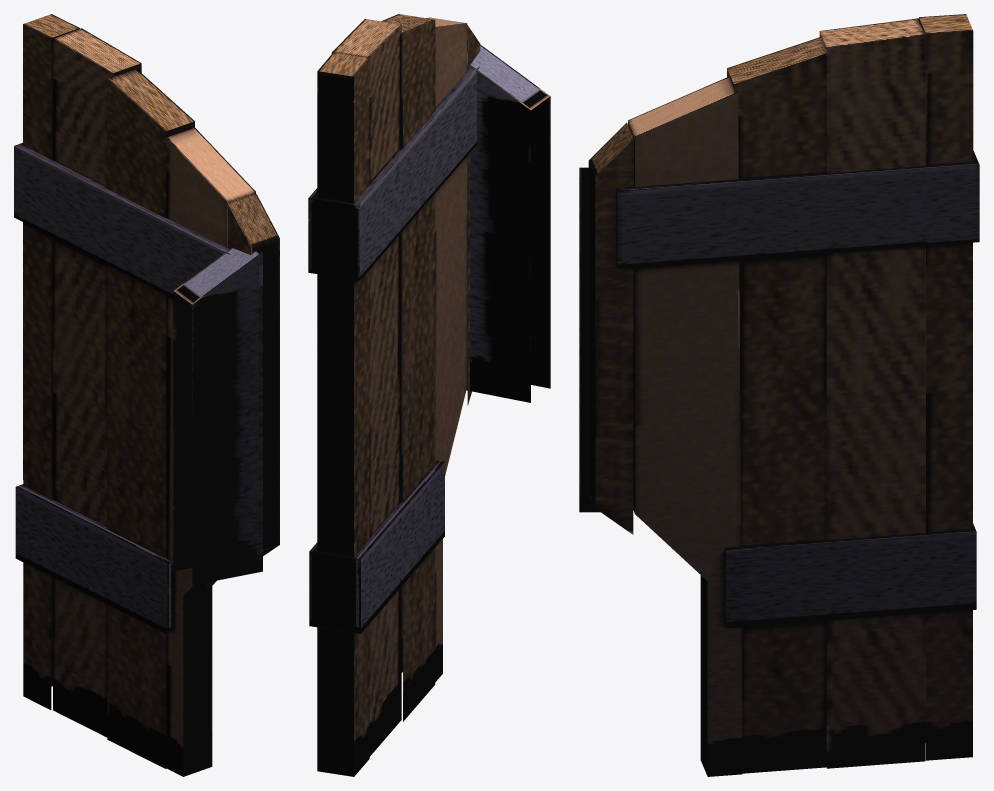
Rendered from DoorSide2F10.obj.
3 views of the same model, side by side, from view 1: azimuth 30°, elevation 25°; view 2: azimuth 150°, elevation 25°; view 3: azimuth 270°, elevation 25° (orthographic). The views are drawn at different scales.
Parts seen in each view (by area): view 1: DoorSide2F10_Cube.431; view 2: DoorSide2F10_Cube.431; view 3: DoorSide2F10_Cube.431.
Boxes of the visible parts, x1,y1,x2,y2 form: DoorSide2F10_Cube.431: [14, 14, 279, 776]; DoorSide2F10_Cube.431: [308, 14, 550, 776]; DoorSide2F10_Cube.431: [579, 14, 979, 776].
Size of the model in its own units: 27.31 by 179 by 89.13.
1 material, 1 textured.
